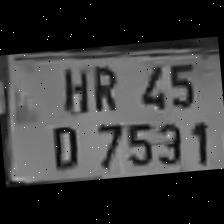1: (182, 114, 214, 167)
3: (150, 115, 184, 166)
4: (130, 57, 168, 112)
5: (119, 116, 156, 168), (162, 57, 198, 109)
7: (88, 118, 124, 170)
D: (44, 120, 83, 171)
H: (53, 60, 92, 116)
R: (85, 57, 122, 114)
